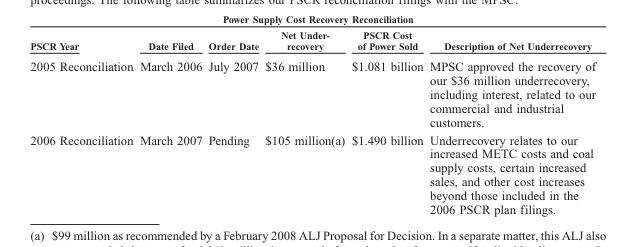table: (29, 28, 594, 215)
table column: (425, 28, 594, 215), (29, 28, 135, 215), (261, 28, 347, 215), (347, 28, 425, 215), (135, 28, 204, 215), (204, 28, 261, 215)
table column header: (29, 28, 594, 55)
table row: (29, 130, 594, 215), (29, 55, 594, 130), (29, 28, 594, 55)
